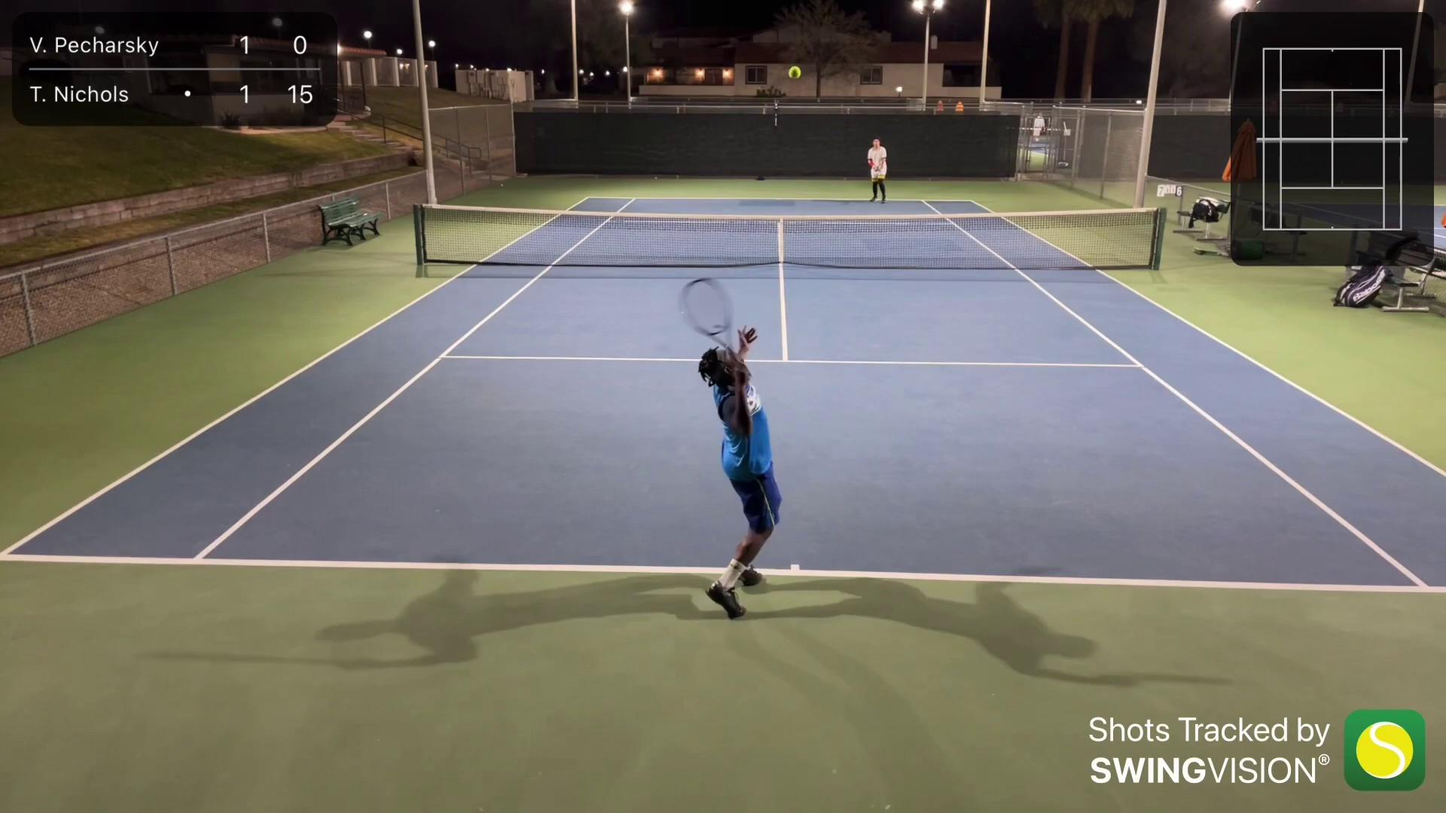ball: (789, 65, 801, 79)
